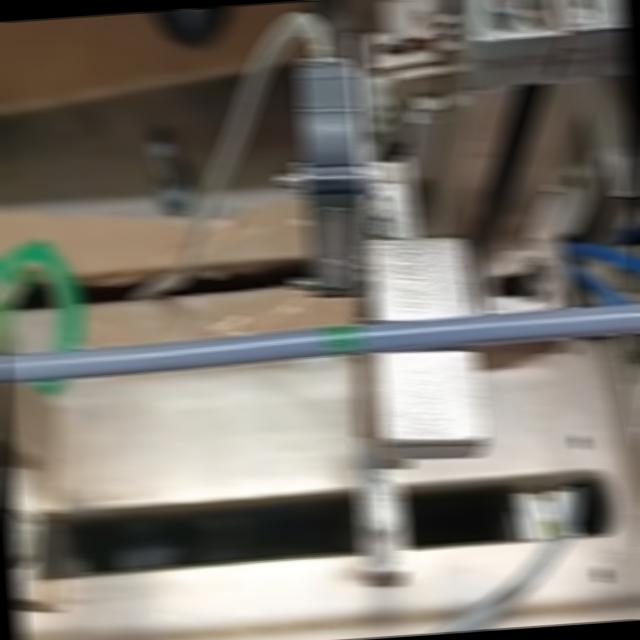green: (320, 324, 367, 355)
